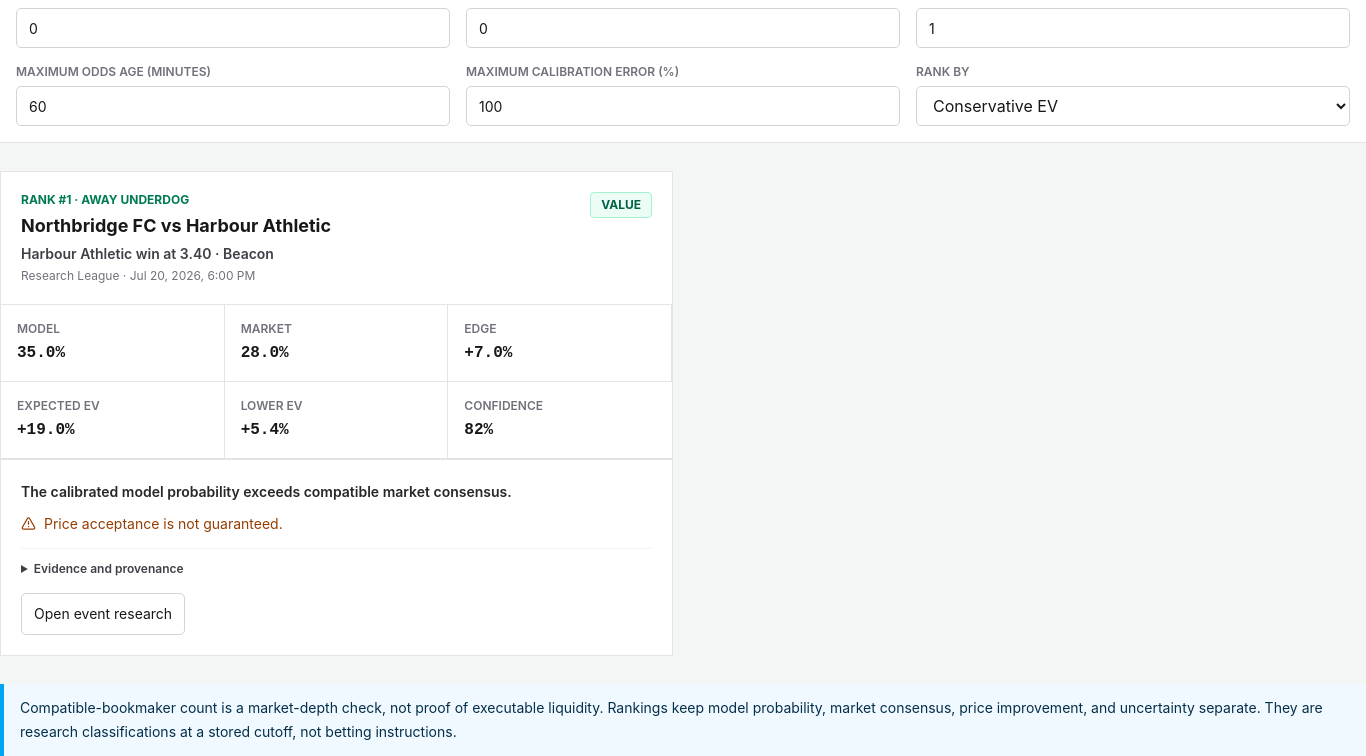
UnderdogScanner › ranks by conservative evidence and exposes provenance
(page scrolled)
Click the heading "Evidence and provenance". click: [109, 568]
box: [34,561,184,576]
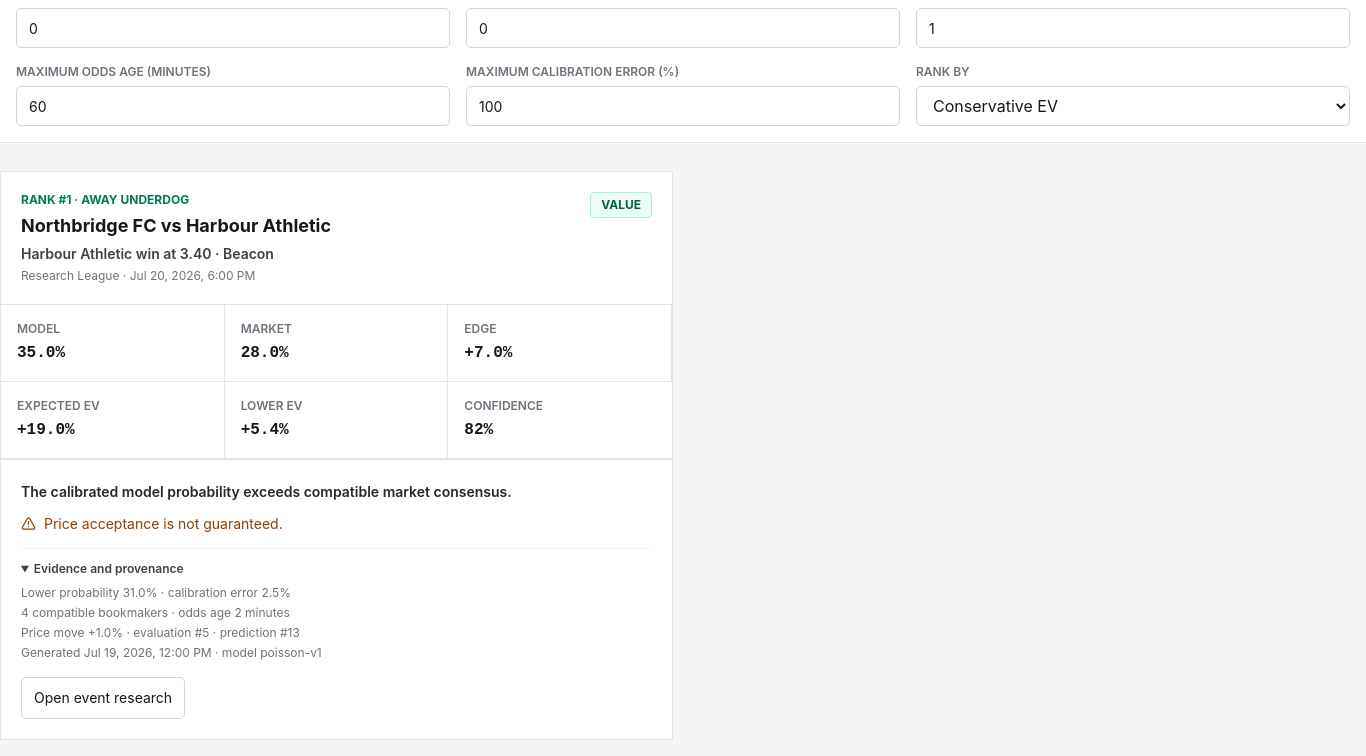
Expected: the text "Price move +1.0% · evaluation #5 · prediction #13" is shown, [21,625,300,640]
